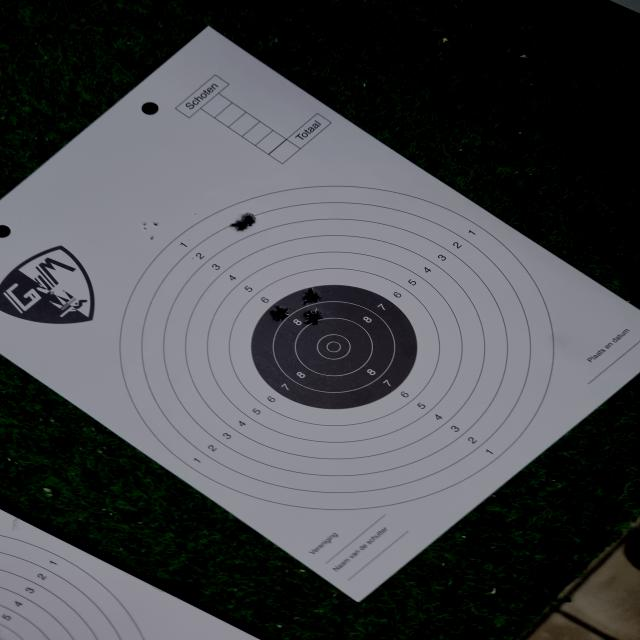2: (228, 220, 248, 232), (242, 213, 256, 226)
5: (0, 610, 14, 625)
7: (302, 288, 322, 305), (272, 306, 290, 321)
9: (304, 308, 323, 324)
Target: (119, 185, 555, 511)
black_contour: (240, 288, 420, 414)
